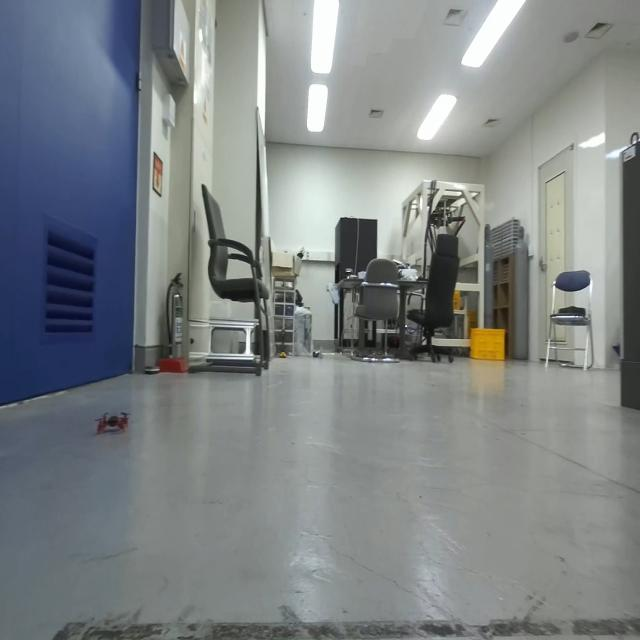crazyflie: (94, 404, 133, 441)
